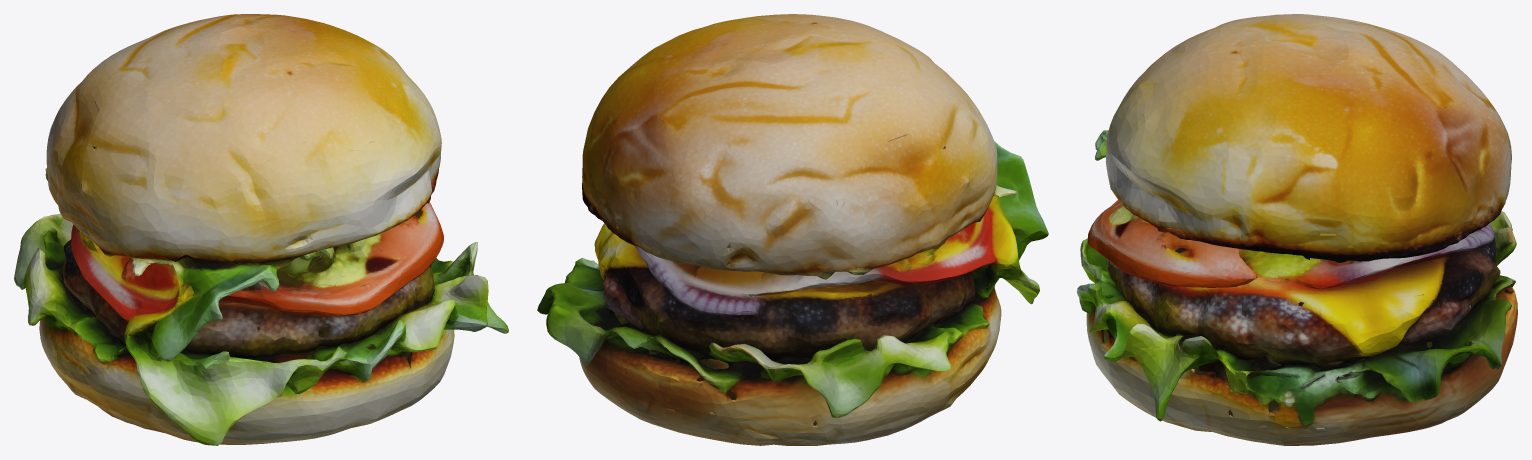
File: burgir.glb
The picture shows the model from 3 angles, left to right: view 1: azimuth 30°, elevation 25°; view 2: azimuth 150°, elevation 25°; view 3: azimuth 270°, elevation 25°; orthographic projection.
Visible parts, largest first — view 1: world; view 2: world; view 3: world.
Part boxes in pixels (box(x1,y1,x2,y2)): world: box(14, 14, 508, 445); world: box(537, 14, 1048, 445); world: box(1077, 14, 1517, 445).
Size of the model in its own units: 1 by 0.8182 by 0.9955.
Materials: 1 (1 with a texture image).
